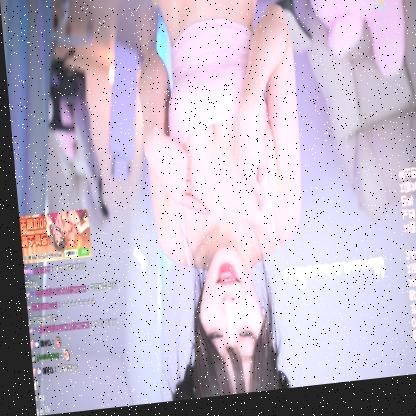streamer: (128, 0, 316, 405)
